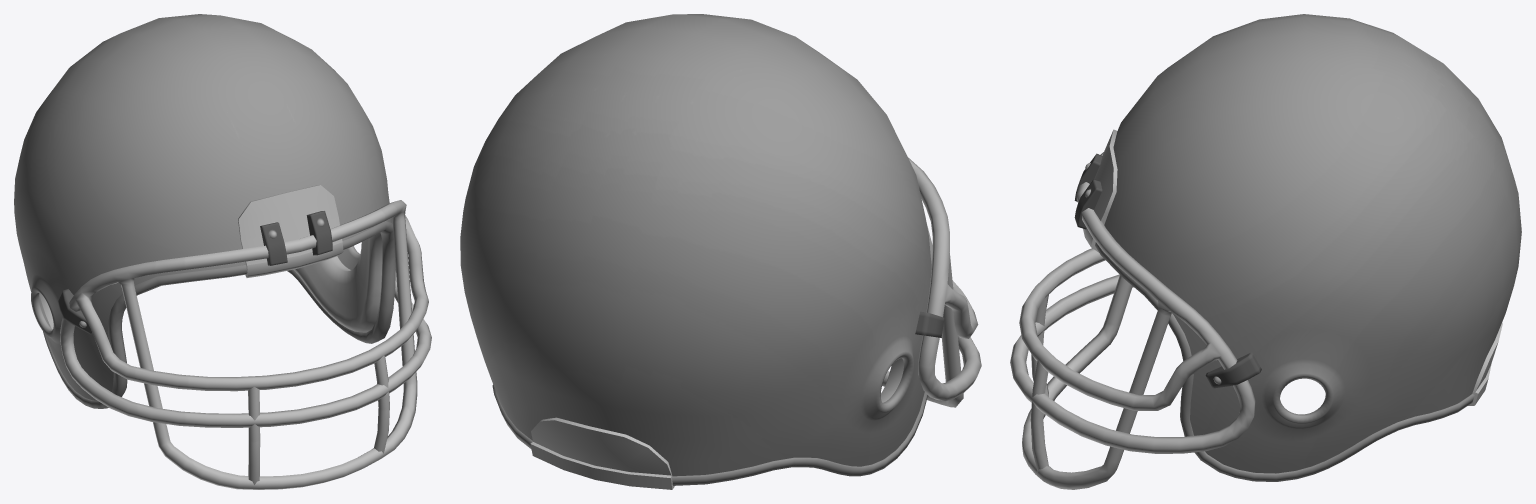
3 views of the same model, side by side, from view 1: azimuth 30°, elevation 25°; view 2: azimuth 150°, elevation 25°; view 3: azimuth 270°, elevation 25° (orthographic). The views are drawn at different scales.
Parts seen in each view (by area): view 1: FootballHelmet; view 2: FootballHelmet; view 3: FootballHelmet.
Part boxes in pixels (box(x1,y1,x2,y2)): FootballHelmet: box(14, 14, 431, 489); FootballHelmet: box(460, 14, 981, 489); FootballHelmet: box(1010, 14, 1521, 489).
Size of the model in its own units: 47.56 by 49.05 by 54.81.
1 material, 1 textured.
